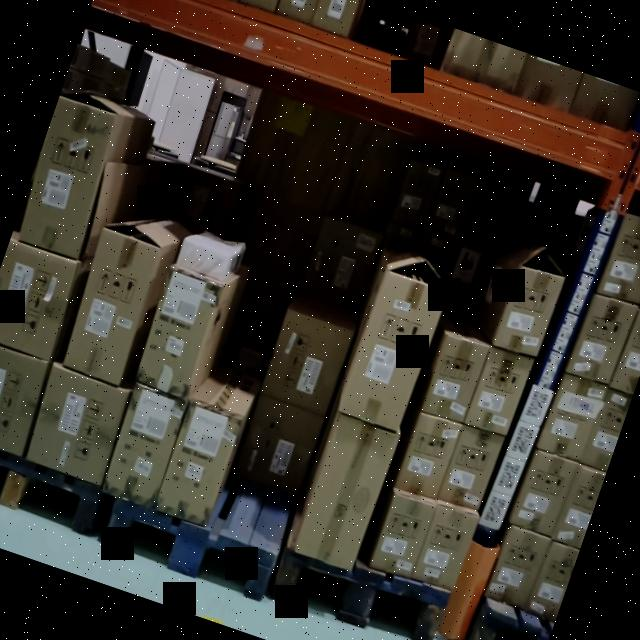box: (11, 100, 126, 266), (339, 270, 448, 428), (292, 417, 398, 569), (66, 232, 158, 380), (22, 370, 128, 478), (138, 271, 223, 393), (103, 384, 186, 506), (157, 402, 240, 520), (258, 314, 350, 416), (0, 240, 78, 359), (296, 218, 380, 316), (564, 288, 640, 390), (464, 347, 530, 437), (419, 336, 486, 424), (538, 376, 604, 464), (0, 340, 52, 451), (439, 426, 504, 514), (496, 270, 560, 358), (511, 449, 576, 534), (414, 503, 478, 588), (396, 417, 461, 500), (488, 522, 550, 604), (372, 496, 432, 578), (598, 213, 640, 303)
